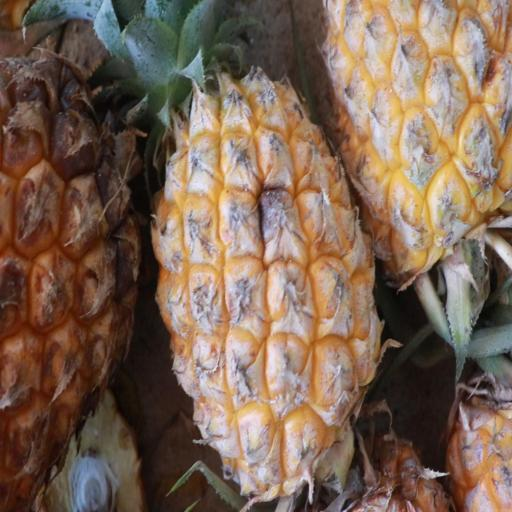Pineapple - v8 v1: (149, 23, 384, 501), (0, 19, 151, 512), (319, 0, 512, 284)
